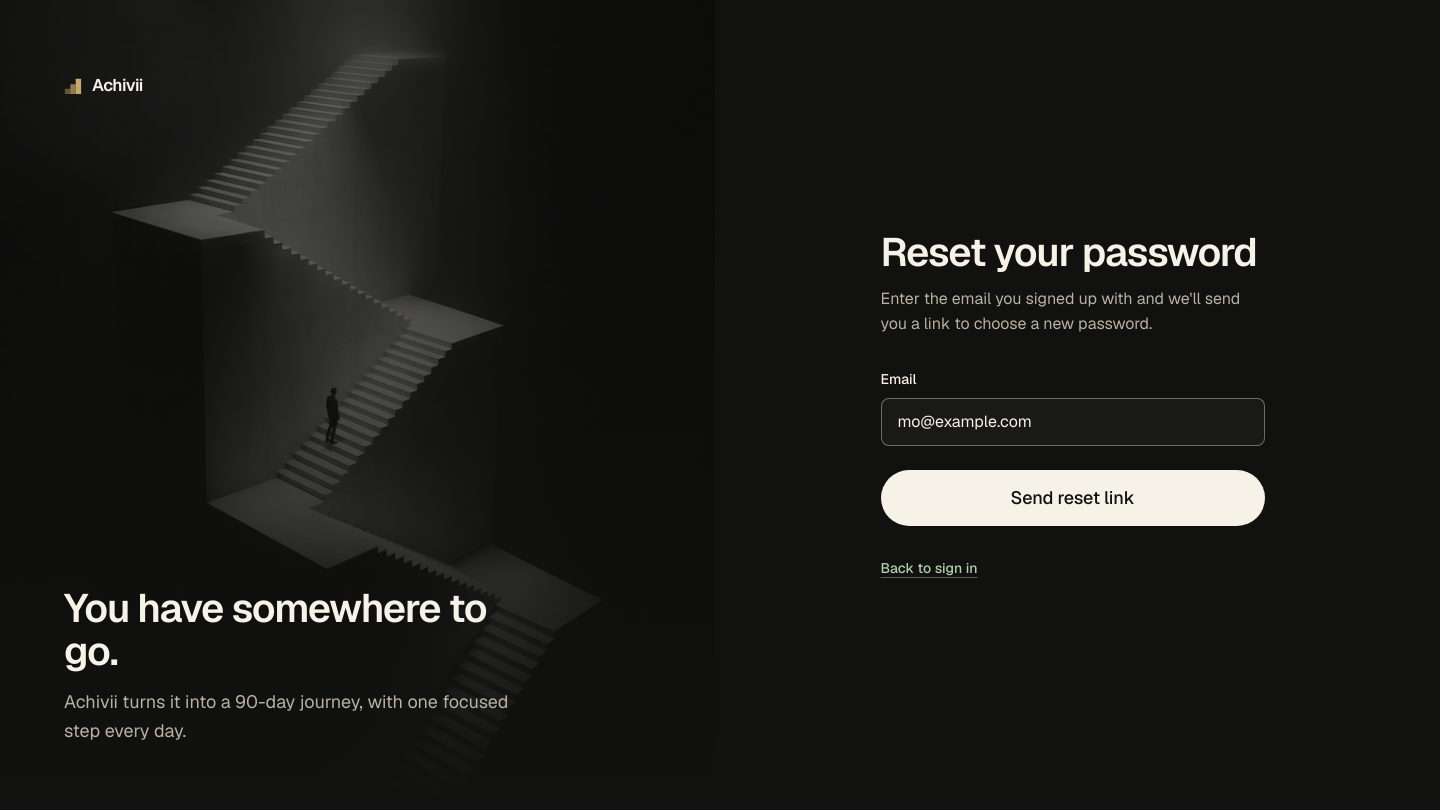
it: password reset (B-15) › sends the link to /reset-password and never says whether the account exists
The image size is (1440, 810).
Click the button "Send reset link": (1072, 498) [880, 470, 1264, 526]
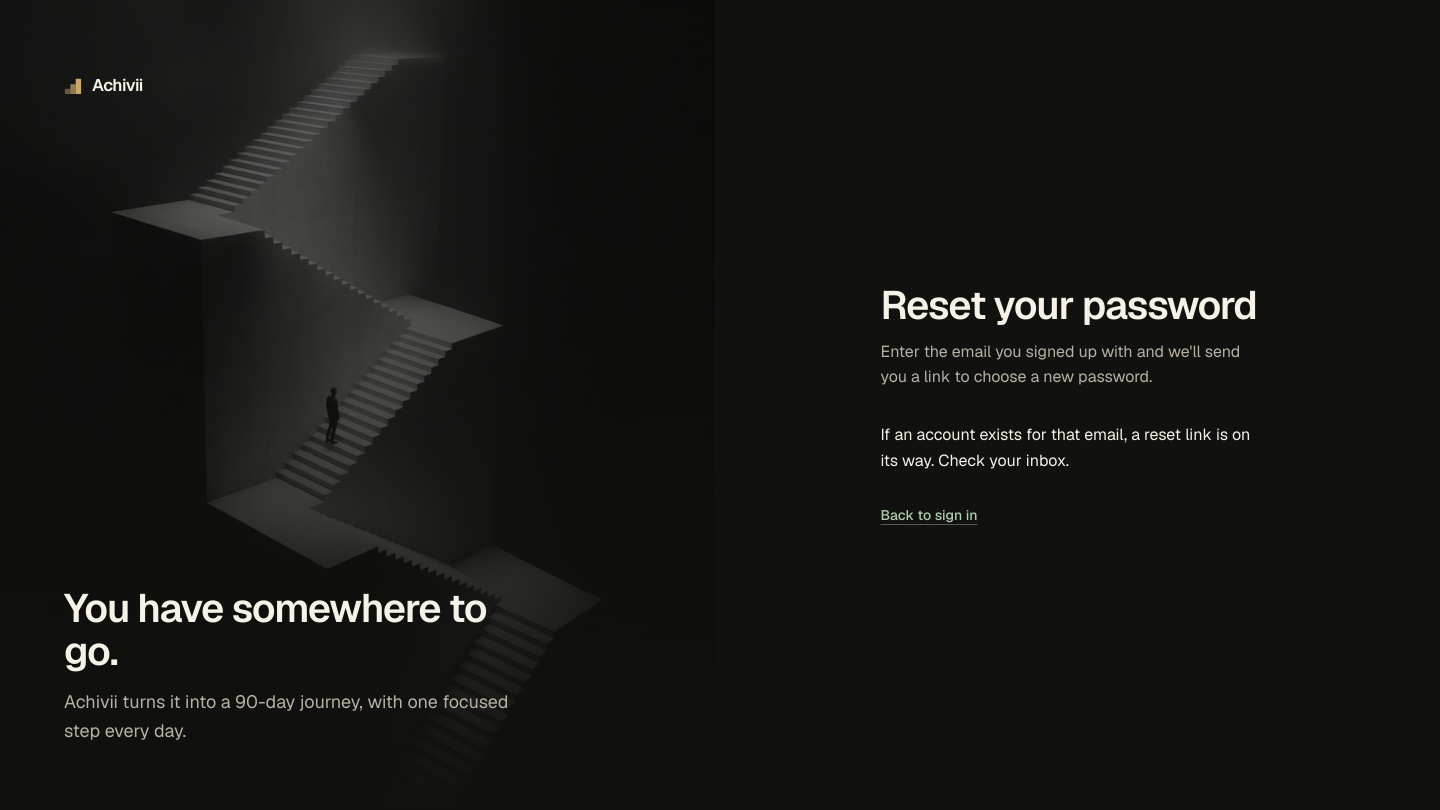
Expected: the message shows "If an account exists for that email, a reset link is on its way. Check your inbox.", [880, 424, 1250, 470]
